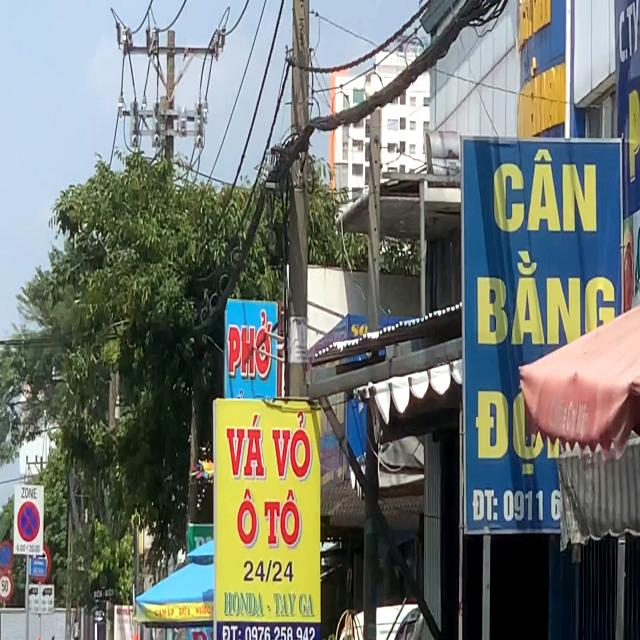P.127: (0, 572, 13, 600)
P.130: (17, 501, 40, 542)
P.131a: (0, 540, 13, 571)
